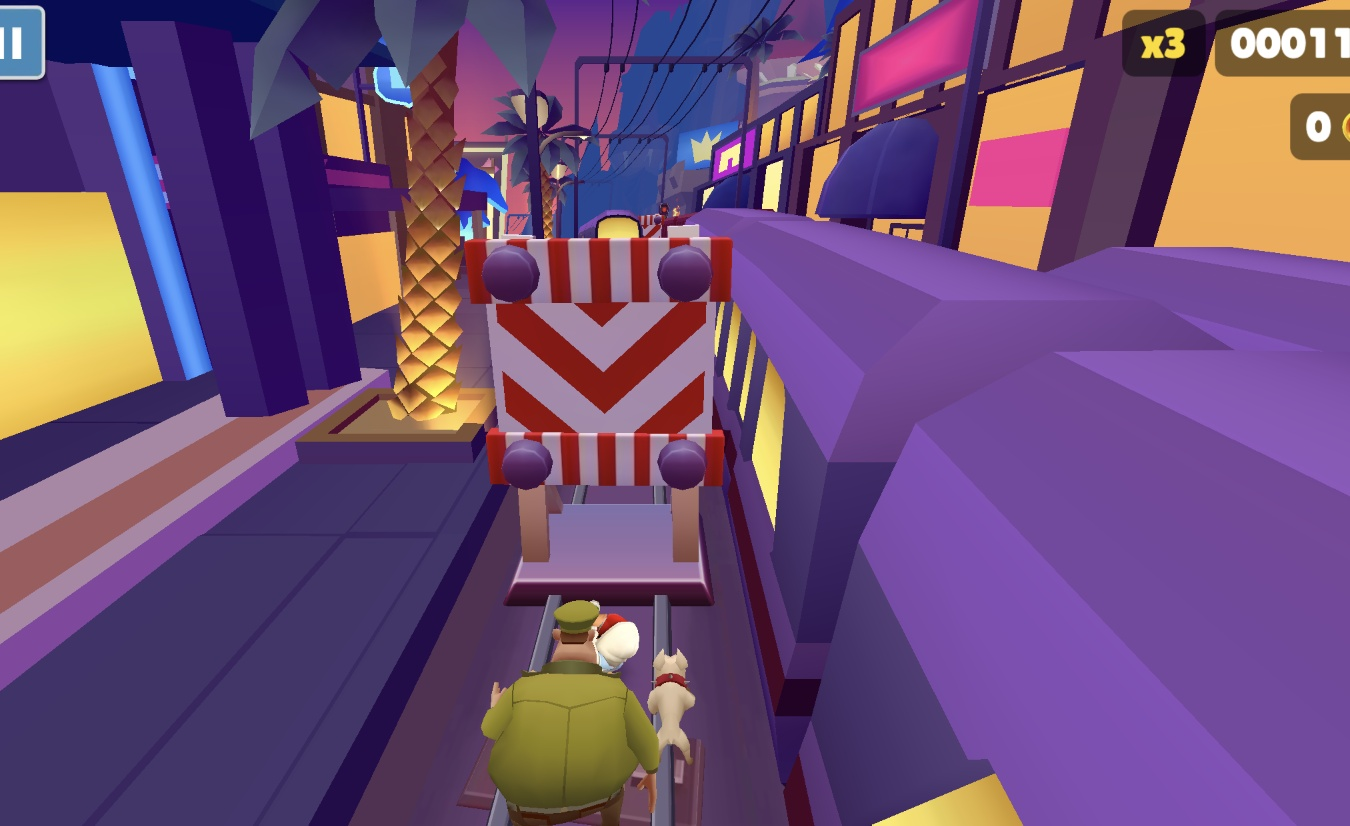overhead_barrier: (464, 215, 739, 613), (637, 213, 665, 239)
train: (670, 211, 1349, 826), (577, 210, 643, 239)
